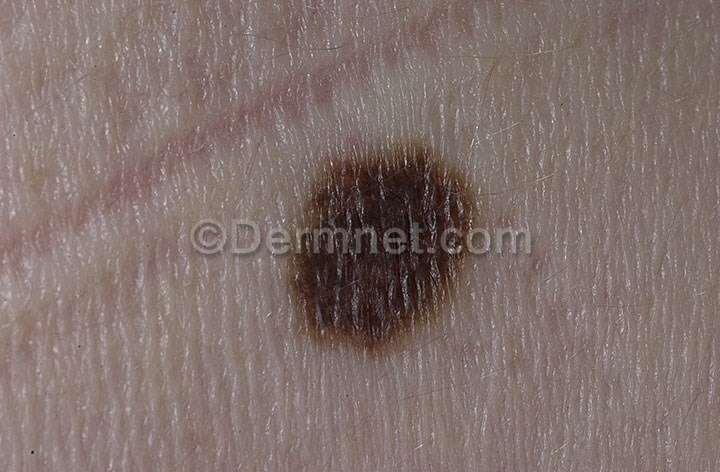Melasma: (260, 246, 472, 355), (269, 123, 495, 222)
